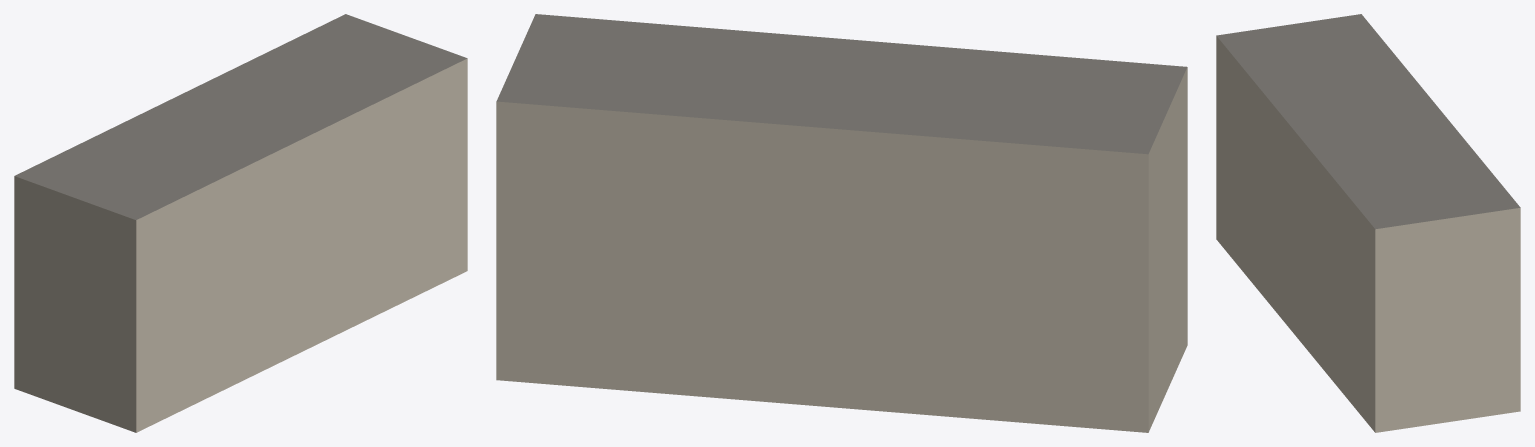
3 views of the same model, side by side, from view 1: azimuth 30°, elevation 25°; view 2: azimuth 150°, elevation 25°; view 3: azimuth 270°, elevation 25° (orthographic). The views are drawn at different scales.
Parts seen in each view (by area): view 1: HP-w1211773989; view 2: HP-w1211773989; view 3: HP-w1211773989.
Boxes of the visible parts, x1,y1,x2,y2 form: HP-w1211773989: (14,14,467,432); HP-w1211773989: (496,14,1187,432); HP-w1211773989: (1216,14,1520,432).
Bounding box in the file's own units: 40.79 × 18 × 24.38.
